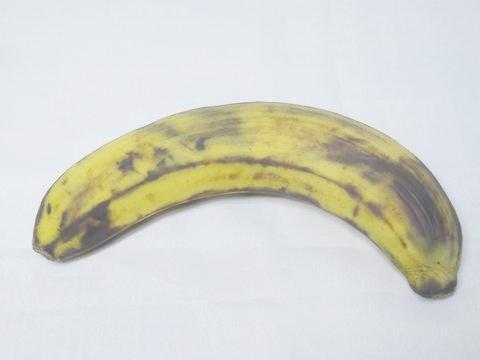overripe: (24, 82, 474, 304)
